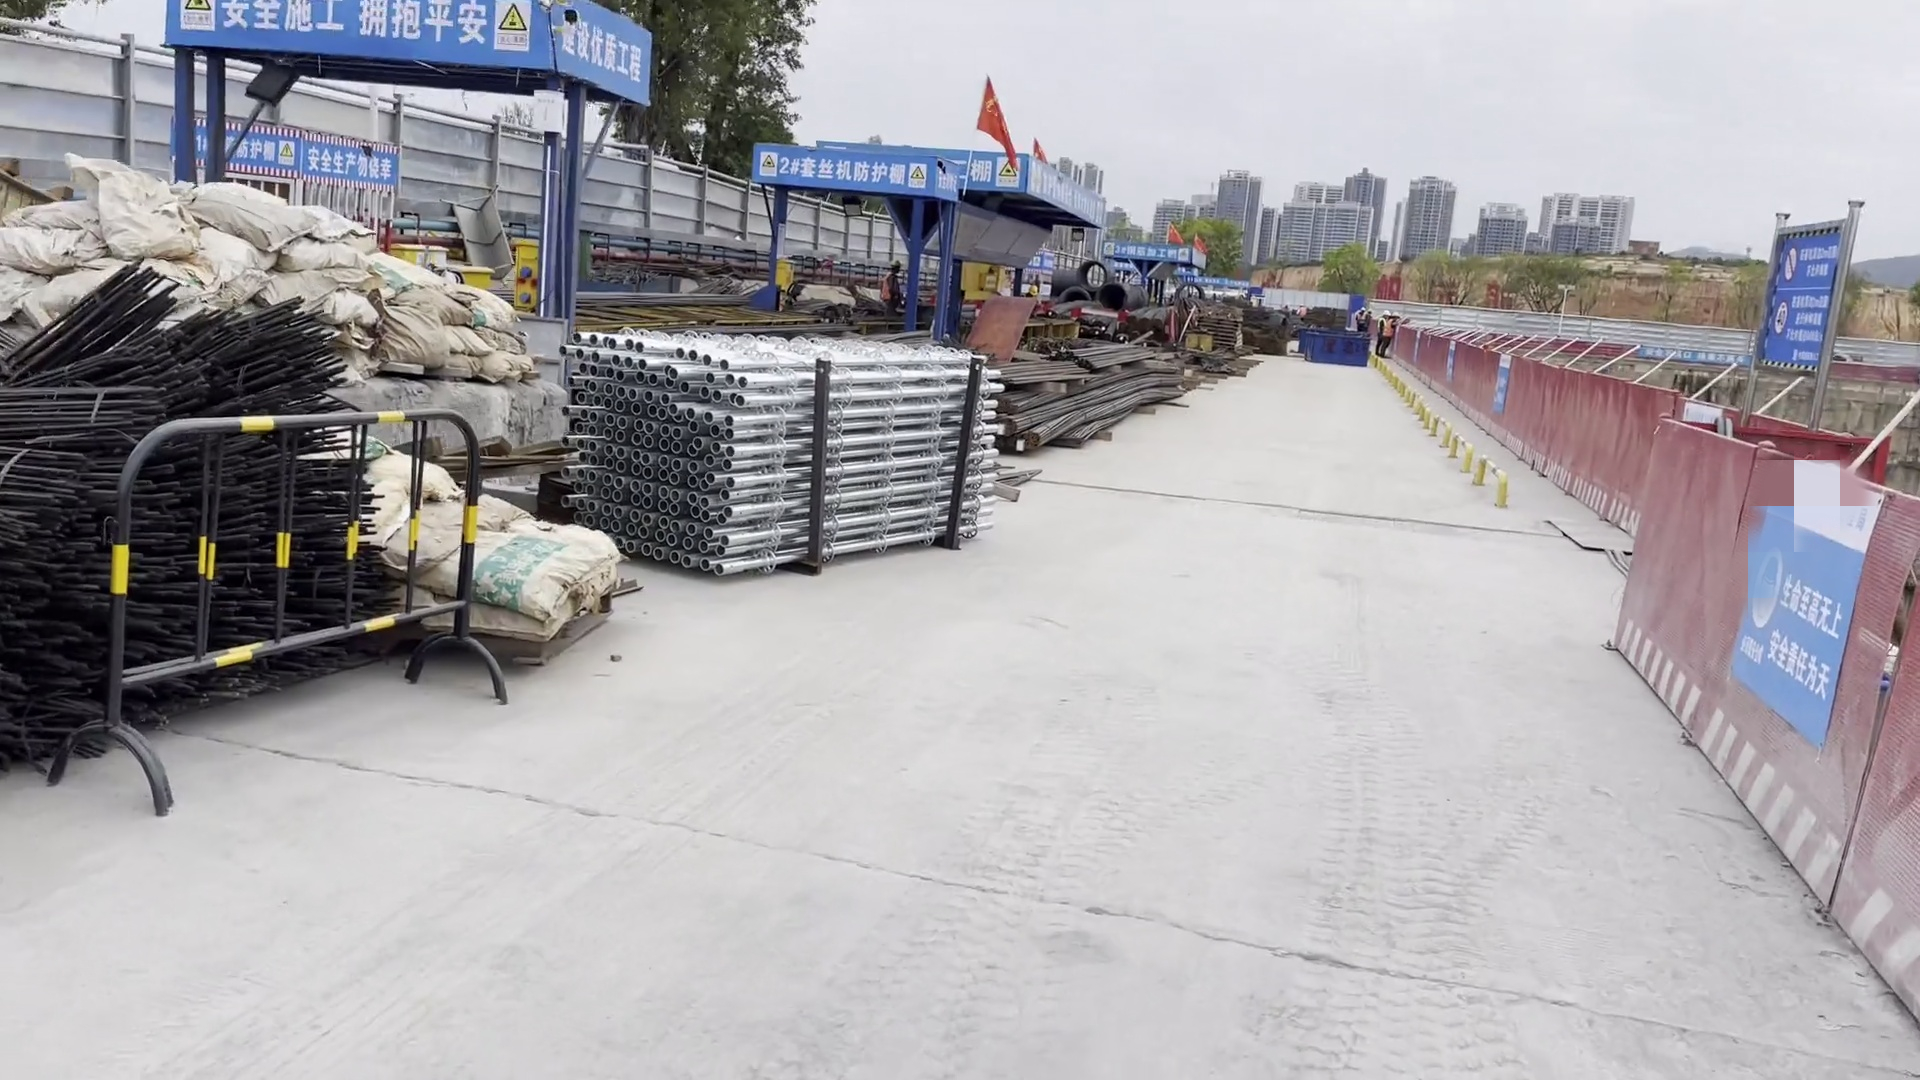ebox: (484, 228, 556, 326), (378, 230, 454, 268), (763, 248, 796, 296)
fence: (1607, 409, 1920, 1075), (1377, 323, 1725, 593)
helmet: (1391, 312, 1402, 320), (1383, 311, 1392, 318), (1360, 306, 1365, 311), (1367, 311, 1372, 315)
hopper: (1297, 324, 1366, 365)
person: (1383, 313, 1404, 358), (1376, 310, 1392, 352), (1356, 306, 1366, 329)
rebar: (970, 319, 1180, 456)
scaffold: (549, 319, 1001, 576)
slogan: (1755, 571, 1858, 705), (225, 1, 487, 41)
vest: (1384, 320, 1392, 335), (1358, 313, 1365, 325)
